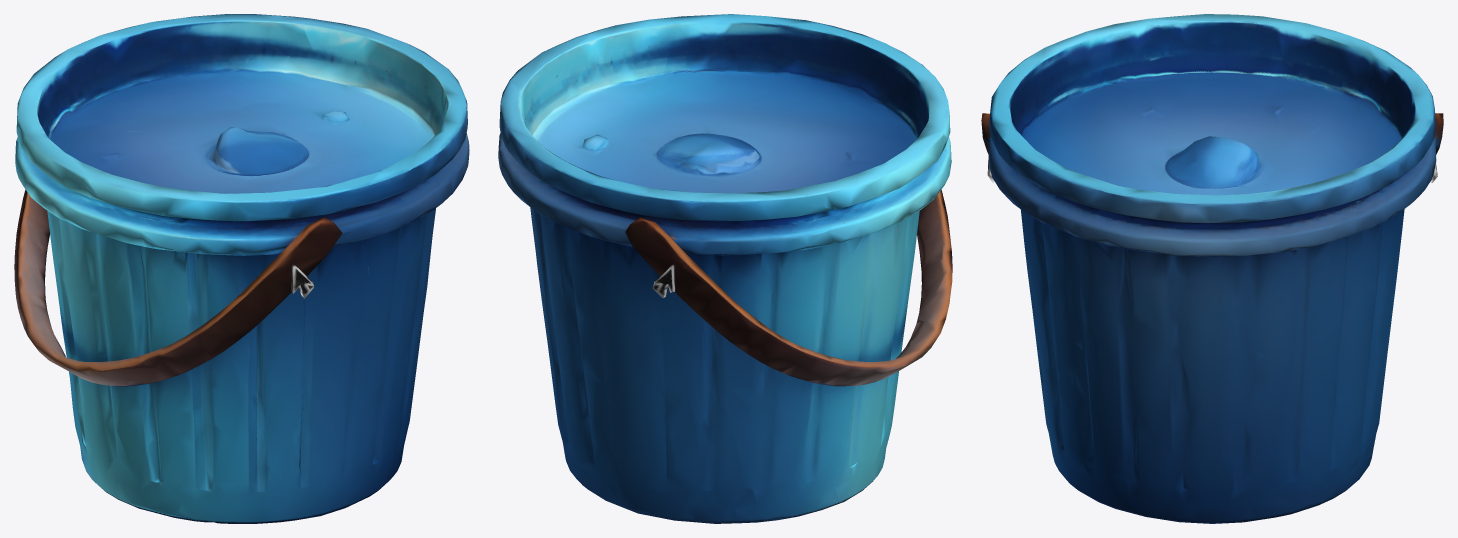
Rendered from prop_bucket_tripo_20261113.glb.
3 renders of one model, left to right at view 1: azimuth 30°, elevation 25°; view 2: azimuth 150°, elevation 25°; view 3: azimuth 270°, elevation 25°, orthographic.
Visible parts, largest first — view 1: tripo_node_0442cbb2-623d-4b7f-b8c4-bcfd3244055e; view 2: tripo_node_0442cbb2-623d-4b7f-b8c4-bcfd3244055e; view 3: tripo_node_0442cbb2-623d-4b7f-b8c4-bcfd3244055e.
Part boxes in pixels (box(x1,y1,x2,y2)): tripo_node_0442cbb2-623d-4b7f-b8c4-bcfd3244055e: box(14, 14, 469, 523); tripo_node_0442cbb2-623d-4b7f-b8c4-bcfd3244055e: box(498, 14, 952, 523); tripo_node_0442cbb2-623d-4b7f-b8c4-bcfd3244055e: box(981, 14, 1443, 523).
Size of the model in its own units: 0.9847 by 0.8348 by 1.
Materials: 1 (1 with a texture image).
